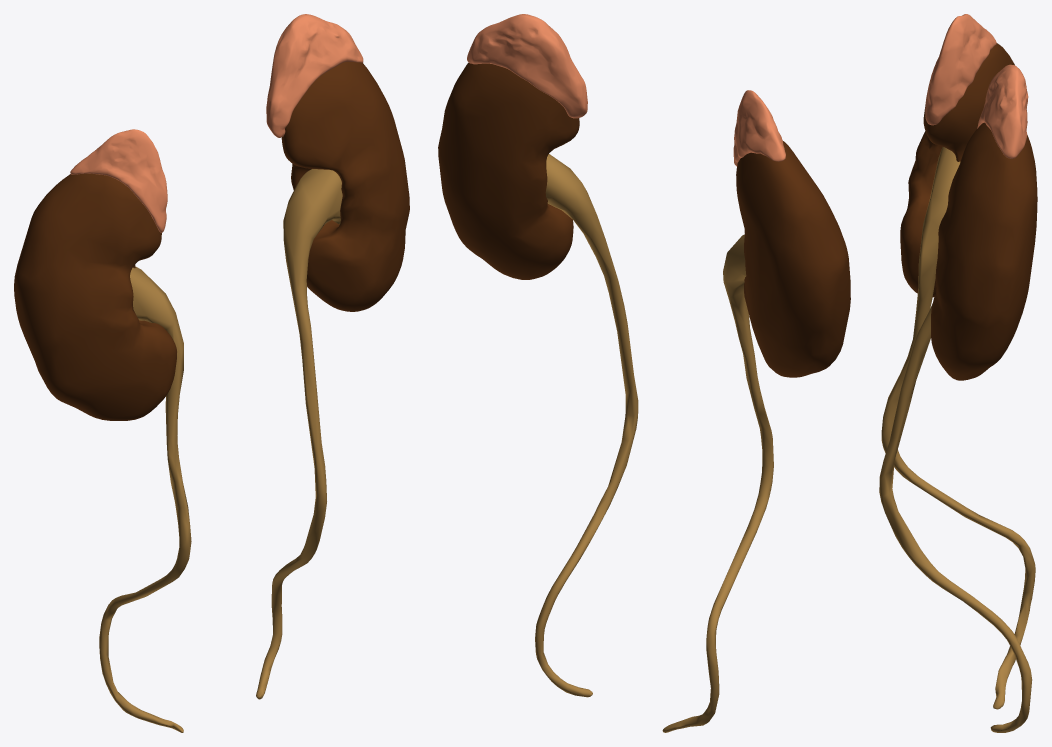
The model's file is Riñones.fbx.
3 views of the same model, side by side, from view 1: azimuth 30°, elevation 25°; view 2: azimuth 150°, elevation 25°; view 3: azimuth 270°, elevation 25° (orthographic). The views are drawn at different scales.
Visible parts, largest first — view 1: Riñon; view 2: Riñon; view 3: Riñon.
Part boxes in pixels (box(x1,y1,x2,y2)): Riñon: box(14, 14, 409, 732); Riñon: box(438, 14, 850, 732); Riñon: box(879, 14, 1037, 732).
Size of the model in its own units: 17.8 by 29.7 by 6.02.
